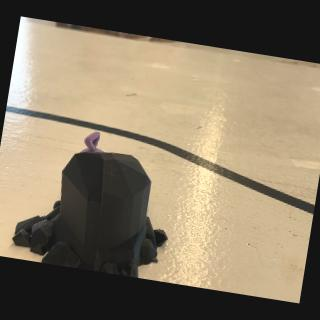teletubby: (80, 131, 104, 153)
